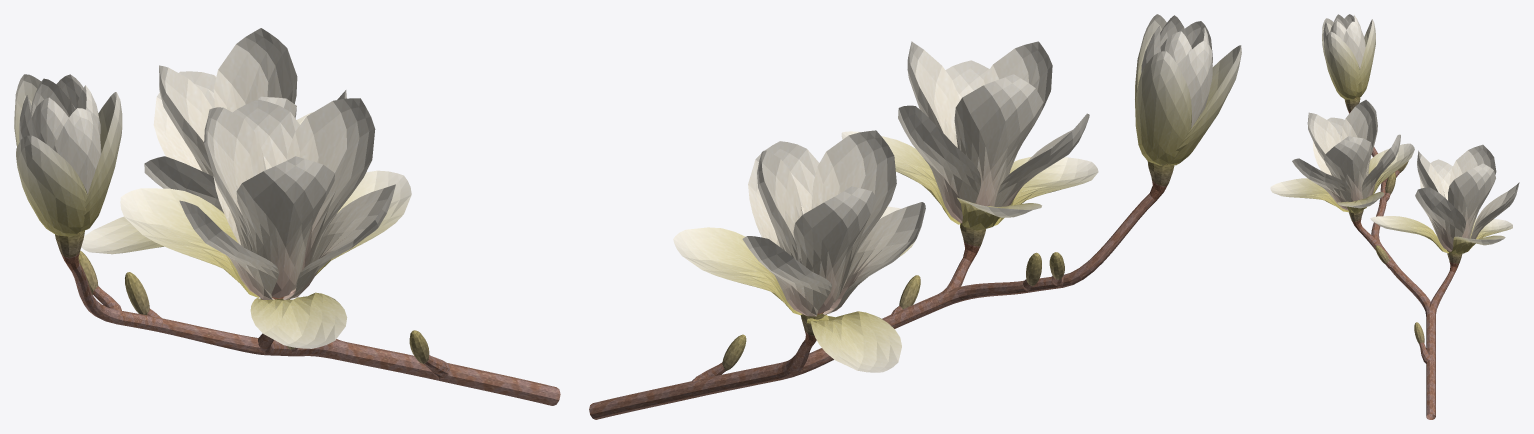
The model's file is magnolia.glb.
3 renders of one model, left to right at view 1: azimuth 30°, elevation 25°; view 2: azimuth 150°, elevation 25°; view 3: azimuth 270°, elevation 25°, orthographic. The views are drawn at different scales.
Visible parts, largest first — view 1: Object_2; view 2: Object_2; view 3: Object_2.
Boxes of the visible parts, left/top/right/bottom form: Object_2: left=14, top=28, right=560, bottom=405; Object_2: left=589, top=14, right=1241, bottom=419; Object_2: left=1270, top=14, right=1519, bottom=419.
Bounding box in the file's own units: 0.6771 × 0.5365 × 0.461.
Materials: 1 (1 with a texture image).
